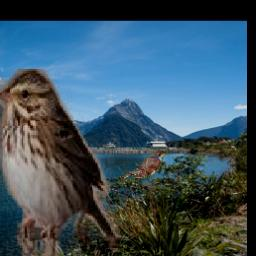Cuckoo: (118, 149, 169, 183)
Sparrow: (0, 70, 124, 256)
